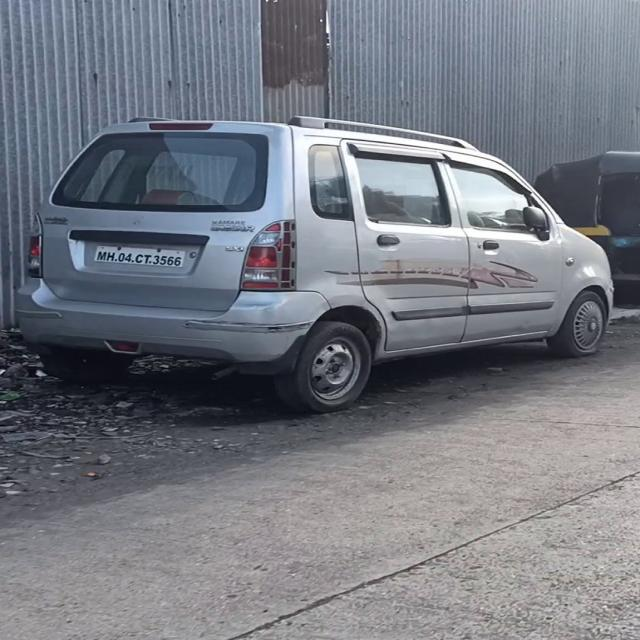Plate: (95, 243, 185, 270)
